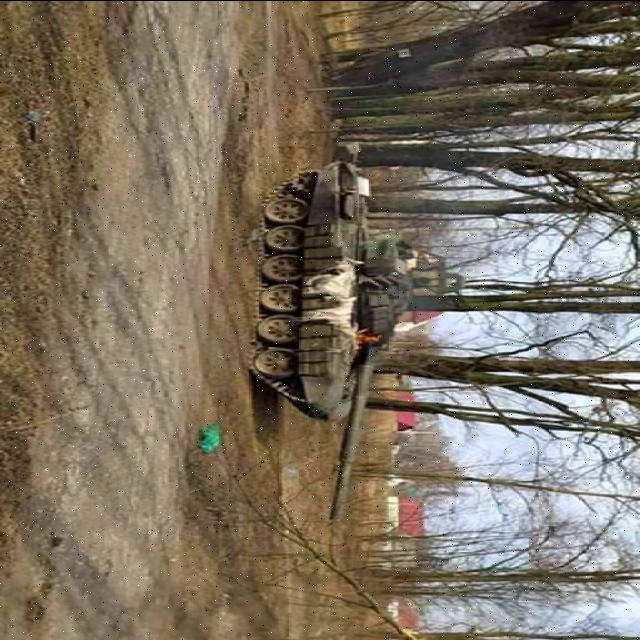TANK: (249, 162, 469, 522)
